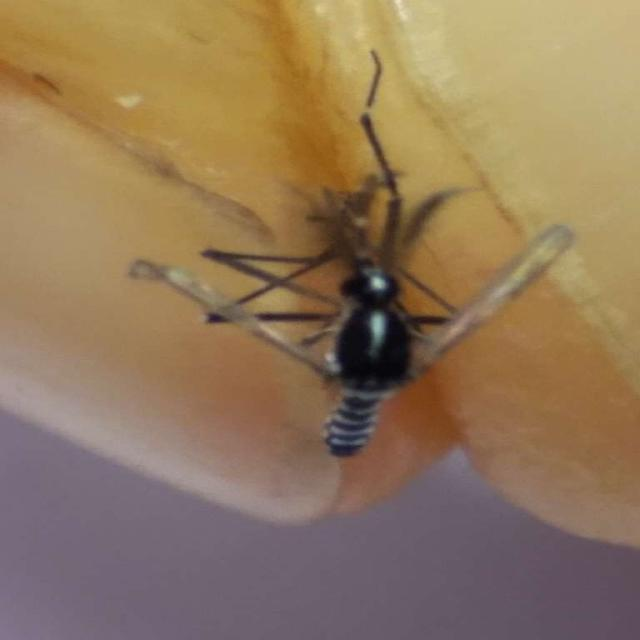albopictus: (128, 32, 540, 476)
